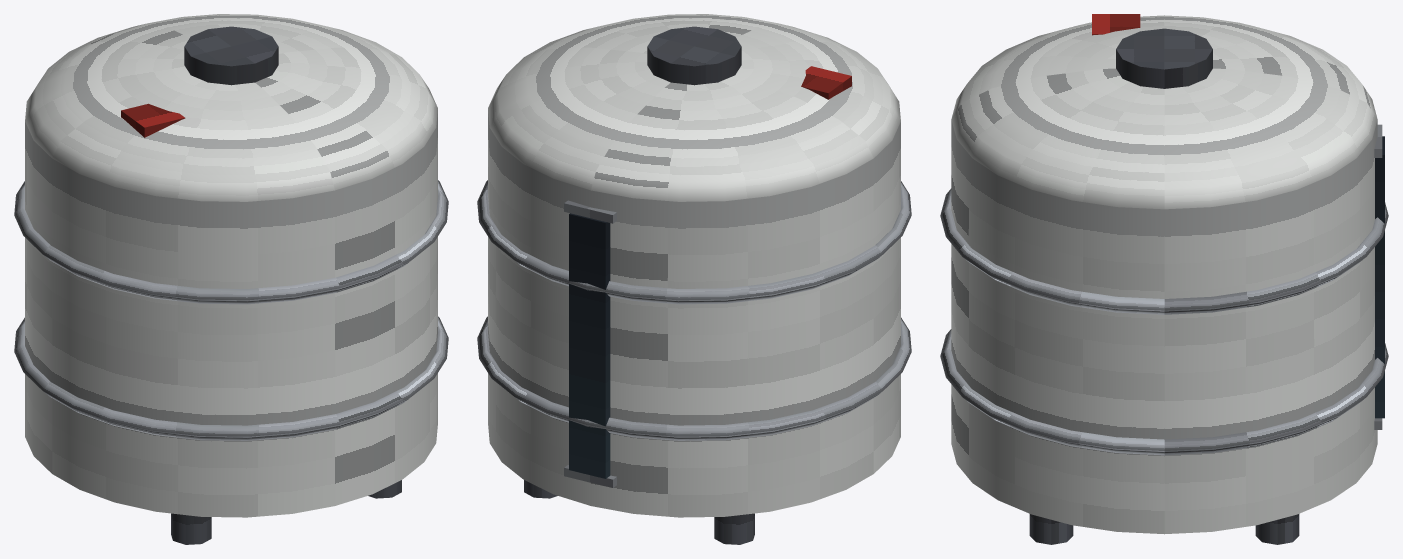
The model's file is oil_tank.obj.
3 views of the same model, side by side, from view 1: azimuth 30°, elevation 25°; view 2: azimuth 150°, elevation 25°; view 3: azimuth 270°, elevation 25° (orthographic). The views are drawn at different scales.
Size of the model in its own units: 0.926 by 1 by 0.926.
